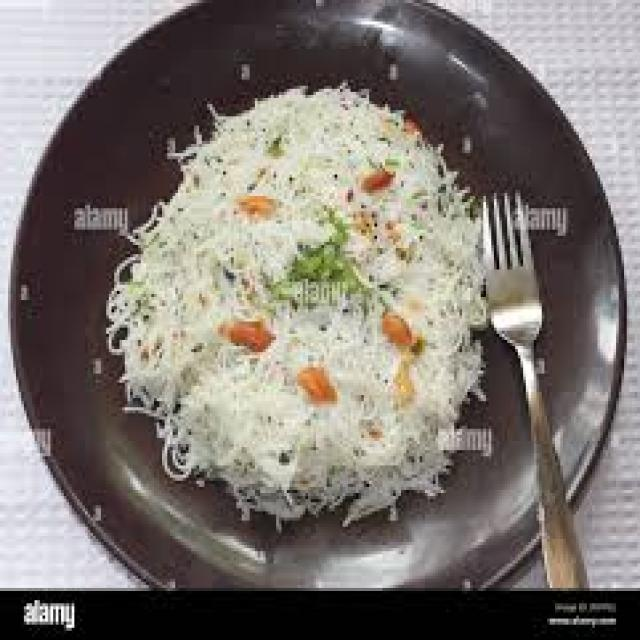UPMA: (109, 89, 481, 521)
